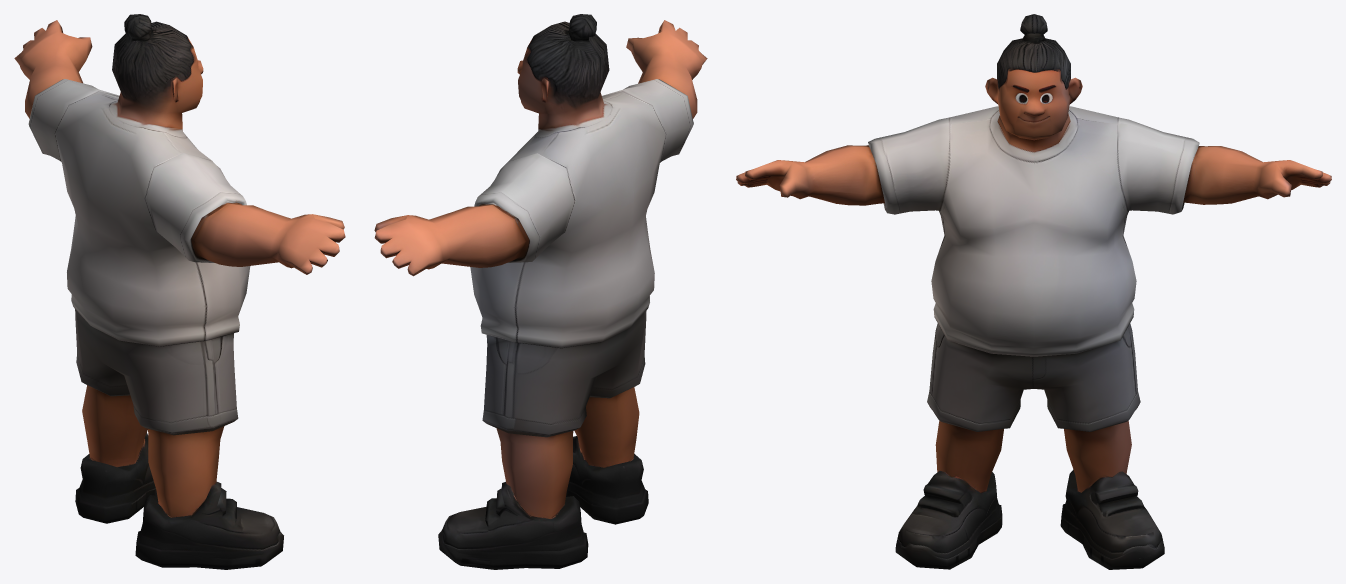
3 views of the same model, side by side, from view 1: azimuth 30°, elevation 25°; view 2: azimuth 150°, elevation 25°; view 3: azimuth 270°, elevation 25° (orthographic).
Parts seen in each view (by area): view 1: tripo_node_deac773a-2047-457b-90e6-9e0778aac2ae; view 2: tripo_node_deac773a-2047-457b-90e6-9e0778aac2ae; view 3: tripo_node_deac773a-2047-457b-90e6-9e0778aac2ae.
Boxes of the visible parts, <box> form: tripo_node_deac773a-2047-457b-90e6-9e0778aac2ae: <box>14,14,345,569</box>; tripo_node_deac773a-2047-457b-90e6-9e0778aac2ae: <box>374,14,707,569</box>; tripo_node_deac773a-2047-457b-90e6-9e0778aac2ae: <box>736,14,1331,569</box>.
Bounding box in the file's own units: 0.2896 × 0.9507 × 0.9995.
Materials: 1 (1 with a texture image).
